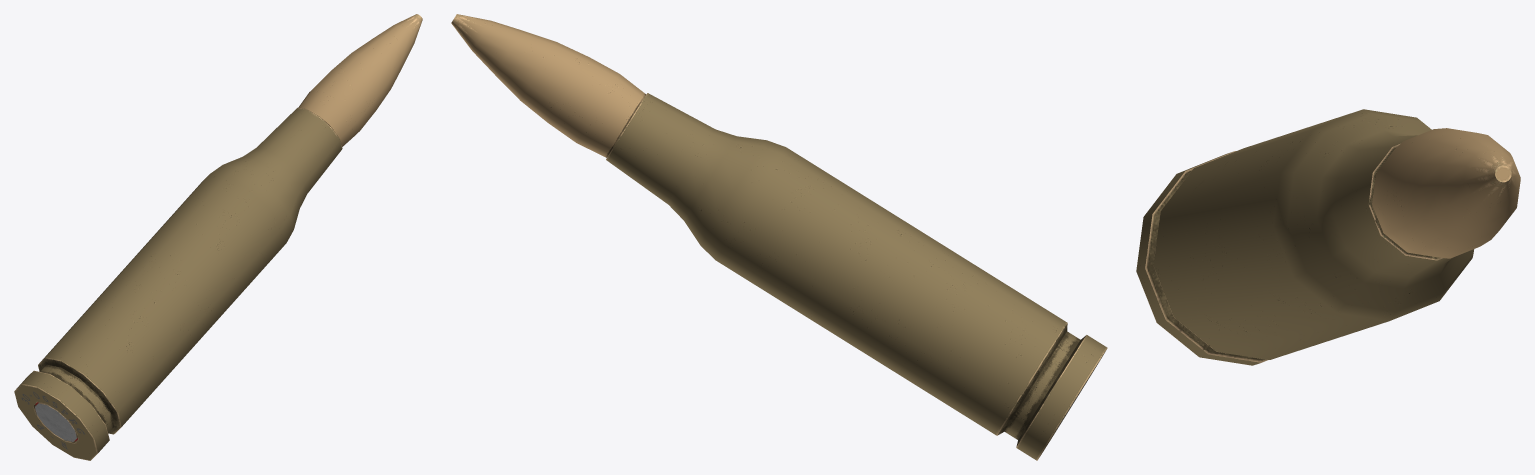
File: bullet.glb
3 renders of one model, left to right at view 1: azimuth 30°, elevation 25°; view 2: azimuth 150°, elevation 25°; view 3: azimuth 270°, elevation 25°, orthographic. The views are drawn at different scales.
Parts seen in each view (by area): view 1: bullet; view 2: bullet; view 3: bullet.
Part boxes in pixels (x1,y1,x2,y2): bullet: (14, 14, 422, 460); bullet: (451, 14, 1107, 460); bullet: (1136, 109, 1520, 365).
Size of the model in its own units: 0.0519 by 0.0325 by 0.019.
1 material, 1 textured.
